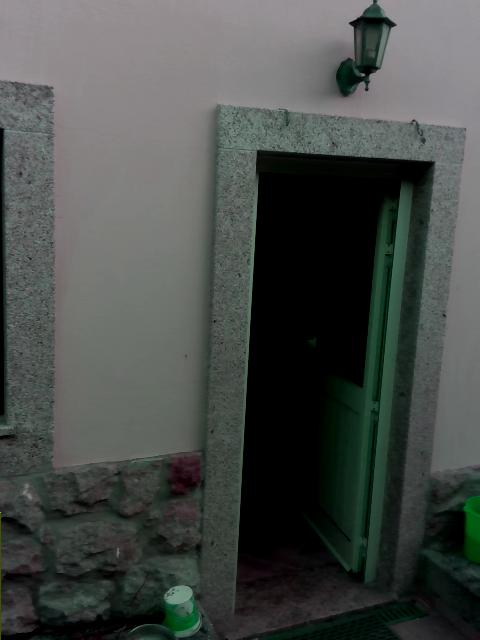open_door: (232, 149, 435, 625)
